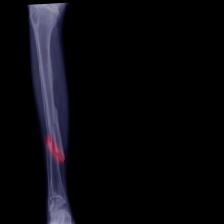open-compound-fracture: (27, 2, 79, 224)
